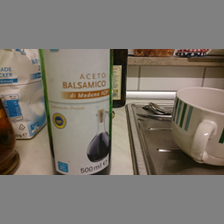vinegar: (38, 47, 116, 174)
